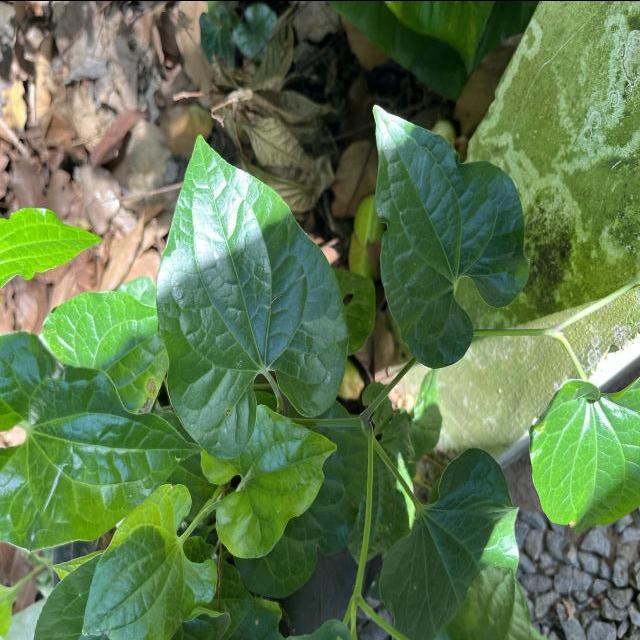Piper longum: (154, 131, 352, 461), (370, 100, 533, 369), (198, 402, 340, 560)
